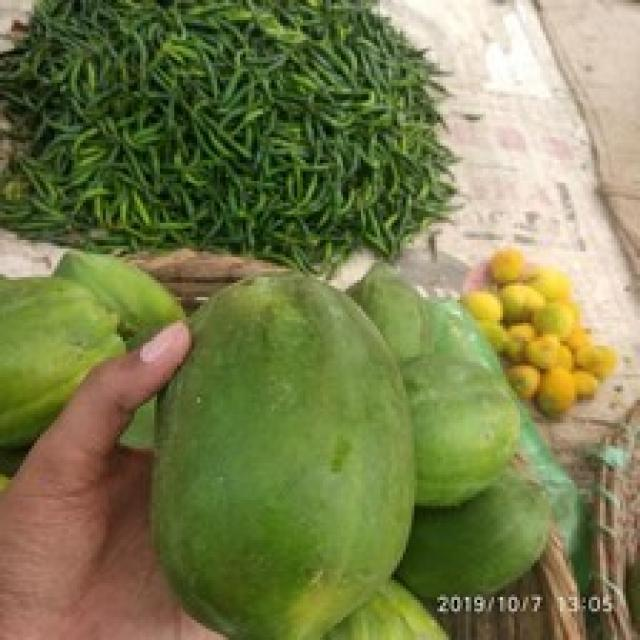Pepaya unrippen: (154, 261, 412, 640)
